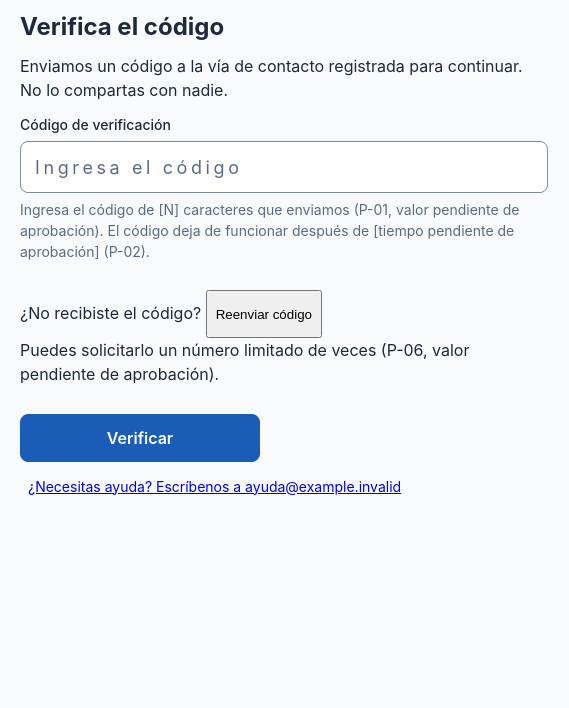
Test case: verify scope MANAGE: estados de la respuesta de /otp/submit › TEST-CNS-1939: expirado -> aviso con 'Solicitar nuevo código' que hace POST /otp/request, limpia el campo y le da el foco
In the field labelled "Código de verificación": [284, 167] box 20,141 -> 548,193, type "999999"
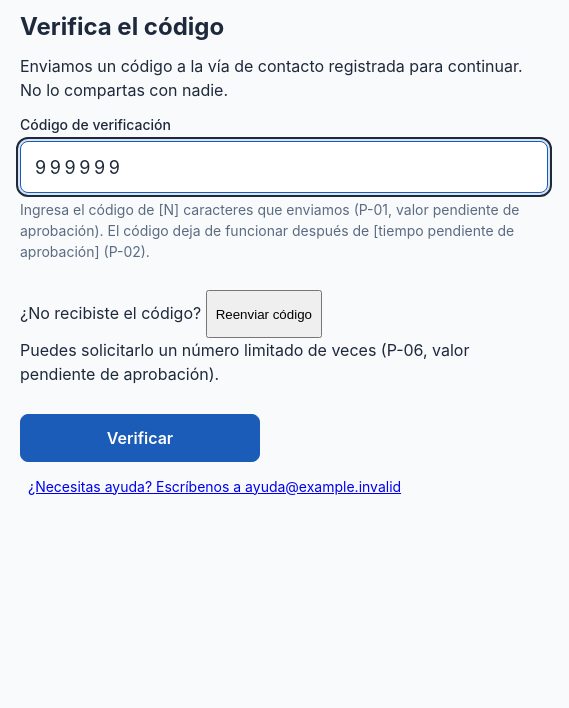
Click the button "Verificar": [140, 438] box 20,414 -> 260,462
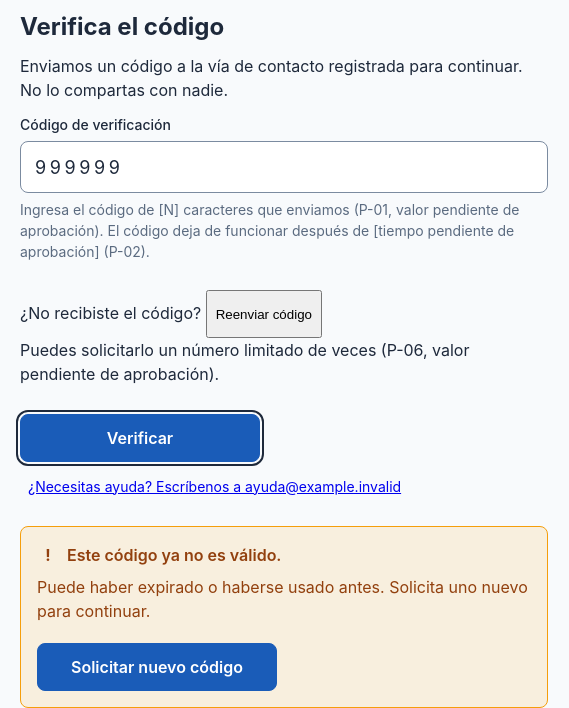
Check: the message shows "Este código ya no es válido.", box 67,545 -> 282,565
Click the button "Solicitar nuevo código": [157, 667] box 37,643 -> 277,691
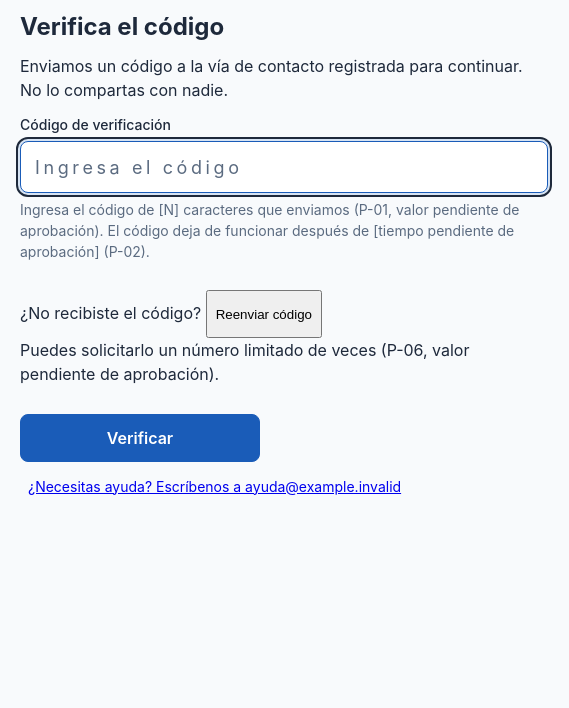
Check: the field labelled "Código de verificación" is empty, box 20,141 -> 548,193
Check: the message is gone
